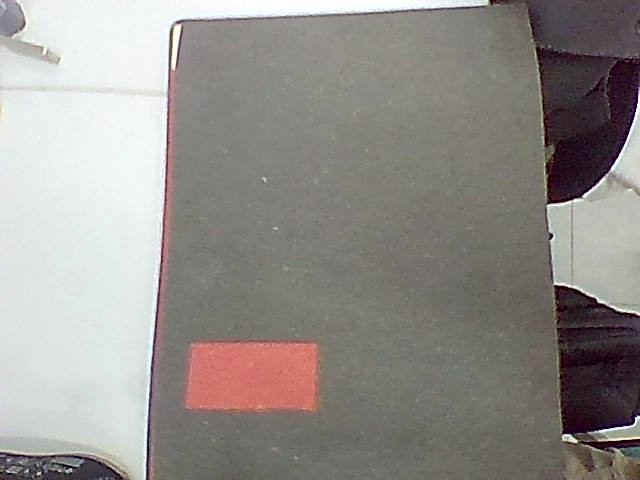card: (185, 343, 318, 411)
